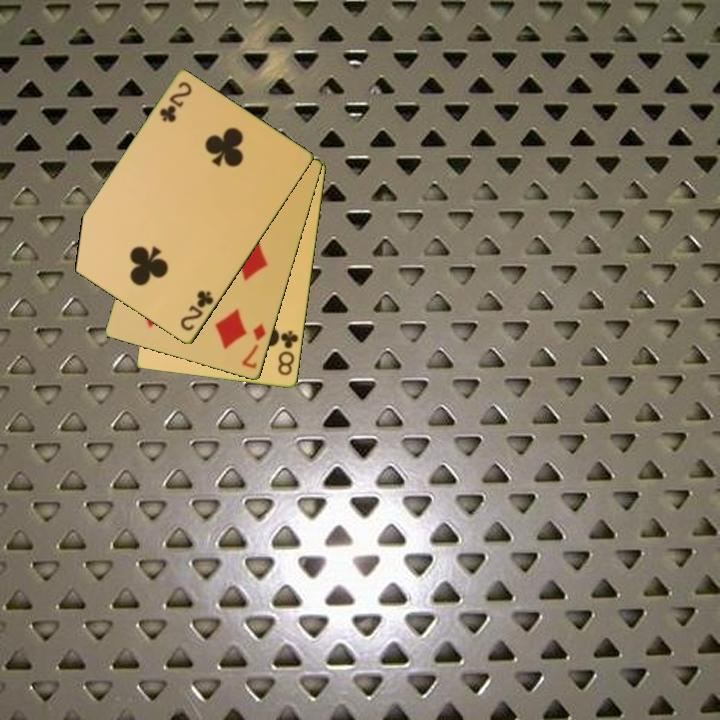2c: (177, 287, 217, 334), (156, 78, 195, 126)
7d: (238, 320, 269, 372)
8c: (275, 327, 302, 379)
